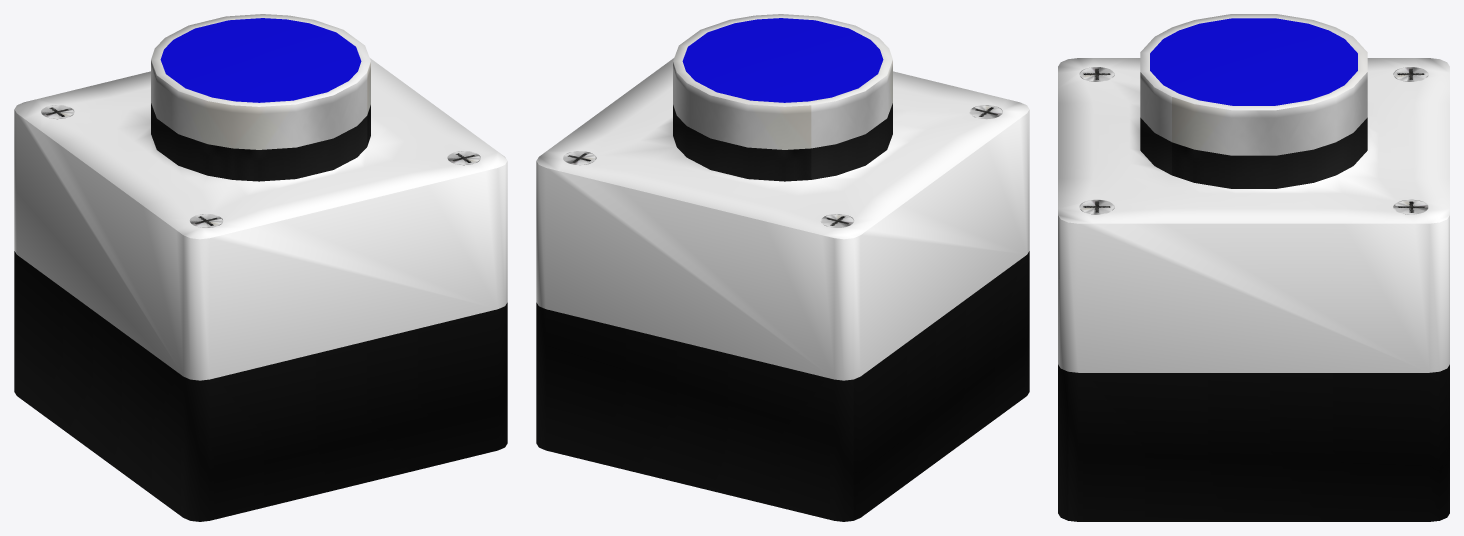
The model's file is button.fbx.
The picture shows the model from 3 angles, left to right: view 1: azimuth 30°, elevation 25°; view 2: azimuth 150°, elevation 25°; view 3: azimuth 270°, elevation 25°; orthographic projection. The views are drawn at different scales.
Visible parts, largest first — view 1: Cube; view 2: Cube; view 3: Cube.
Part boxes in pixels (<box>): Cube: <box>14,14,507,521</box>; Cube: <box>536,14,1029,521</box>; Cube: <box>1058,14,1449,521</box>.
Bounding box in the file's own units: 200 × 212 × 200.
